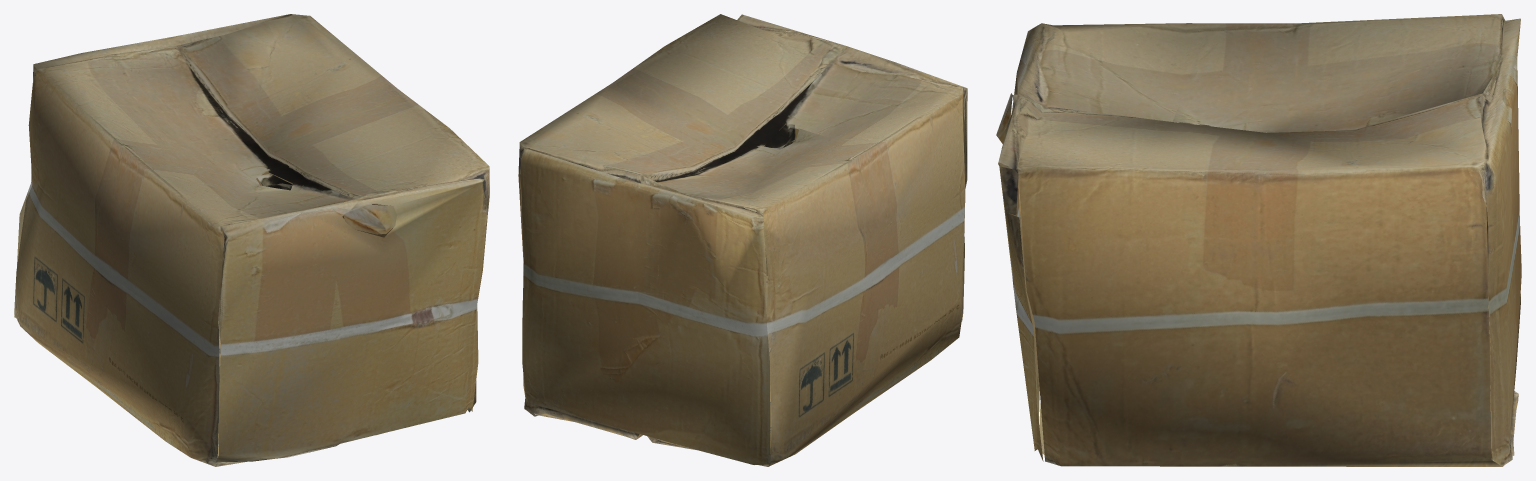
Rendered from carton.glb.
3 views of the same model, side by side, from view 1: azimuth 30°, elevation 25°; view 2: azimuth 150°, elevation 25°; view 3: azimuth 270°, elevation 25° (orthographic). The views are drawn at different scales.
Parts seen in each view (by area): view 1: cardboard_box_01; view 2: cardboard_box_01; view 3: cardboard_box_01.
Part boxes in pixels (x1,y1,x2,y2): cardboard_box_01: (14, 14, 489, 466); cardboard_box_01: (518, 14, 967, 466); cardboard_box_01: (996, 14, 1521, 466).
Size of the model in its own units: 0.388 by 0.3381 by 0.515.
Materials: 1 (1 with a texture image).
